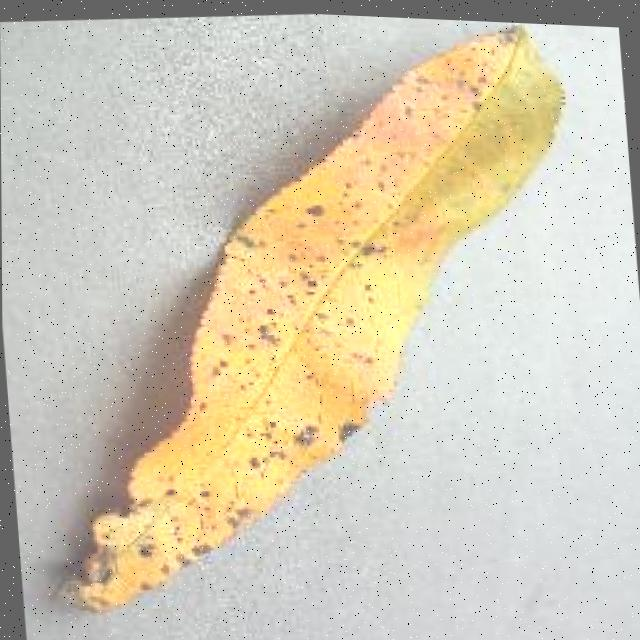Bacterial_spot: (0, 0, 608, 640)
